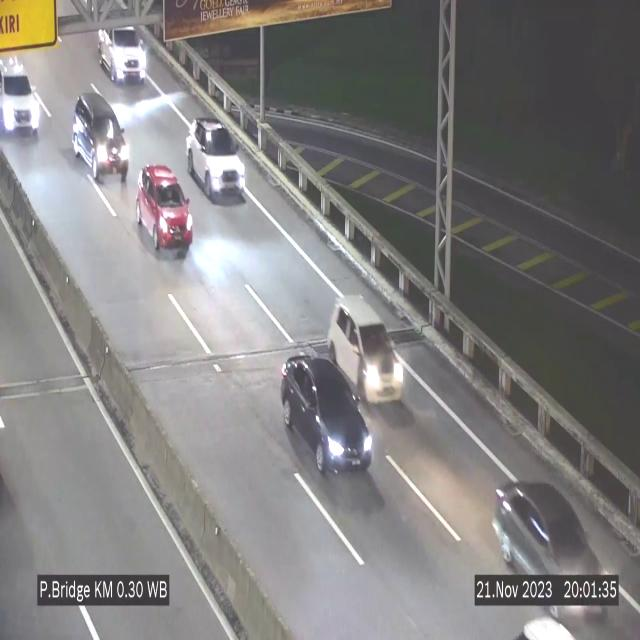Car: (491, 459, 603, 624), (282, 355, 375, 487), (323, 290, 407, 420), (66, 94, 132, 182), (136, 164, 192, 255), (186, 117, 246, 200), (97, 22, 157, 92), (0, 57, 40, 134)
